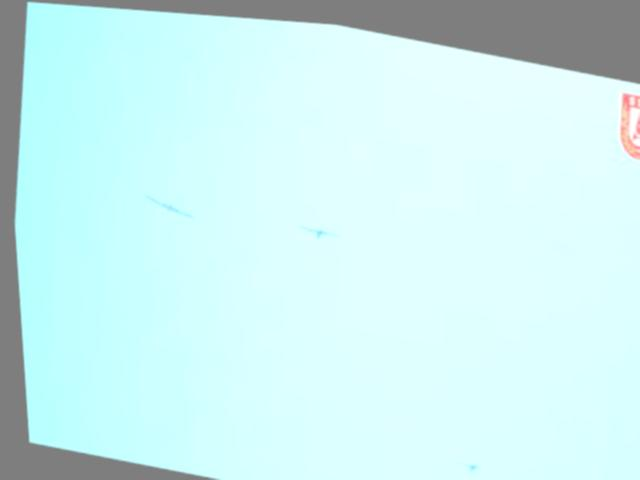uav: (139, 189, 195, 222), (292, 215, 338, 240), (447, 446, 487, 473)
